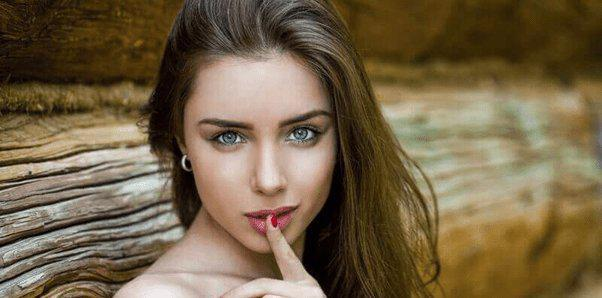Sober: (188, 58, 325, 235)
